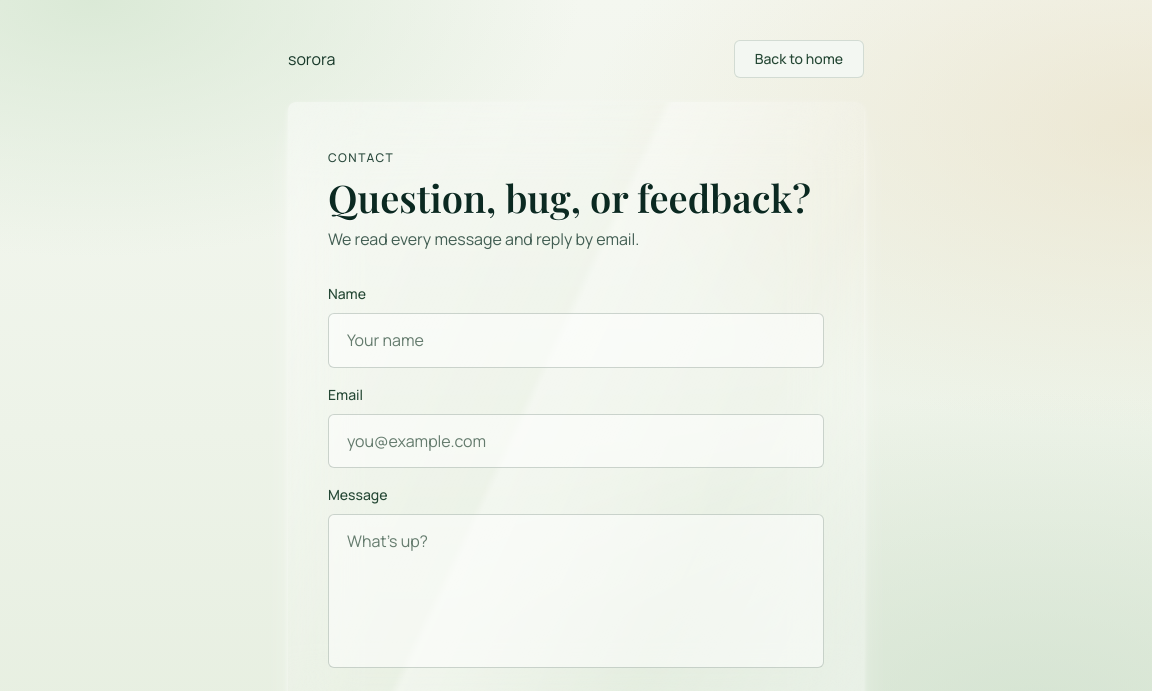
Scenario: a rejected contact request keeps the draft and permits retry without claiming success
This screenshot has width=1152, height=691.
Type "Sample Member" into the field labelled "Name".
click(576, 340); type("Sample Member")  # box [328,313,824,368]
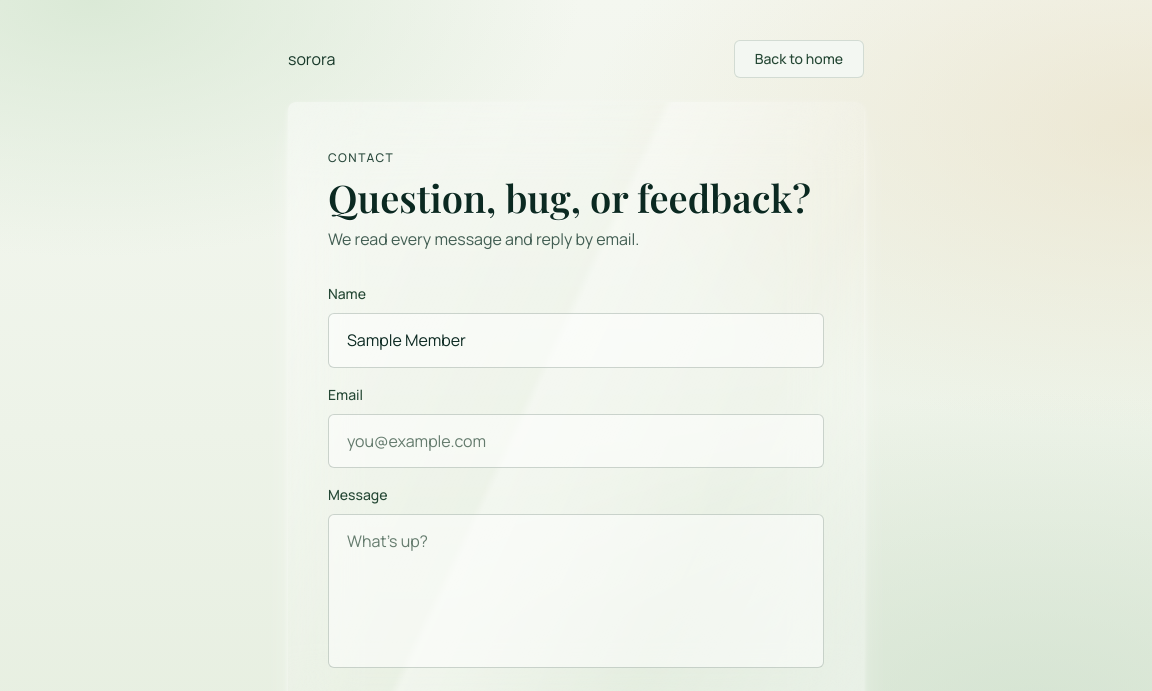
Type "sample@example.com" into the field labelled "Email".
click(576, 441); type("sample@example.com")  # box [328,414,824,468]
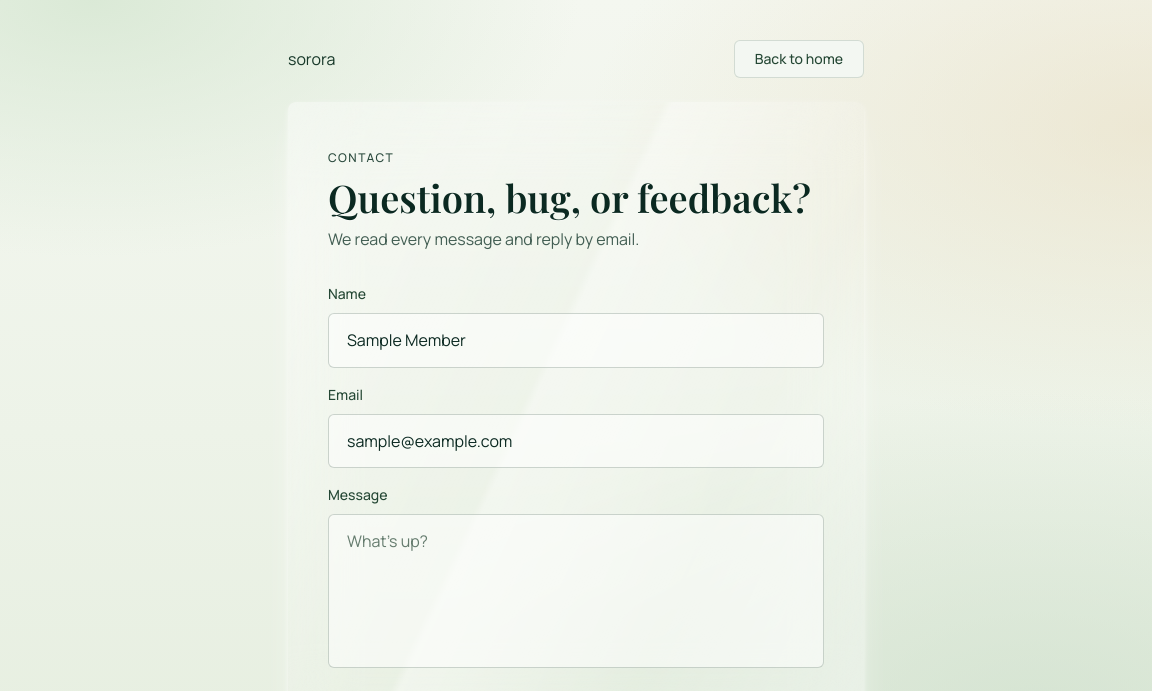
Type "Sample question" into the text box labelled "Message".
click(576, 591); type("Sample question")  # box [328,514,824,668]
(page scrolled)
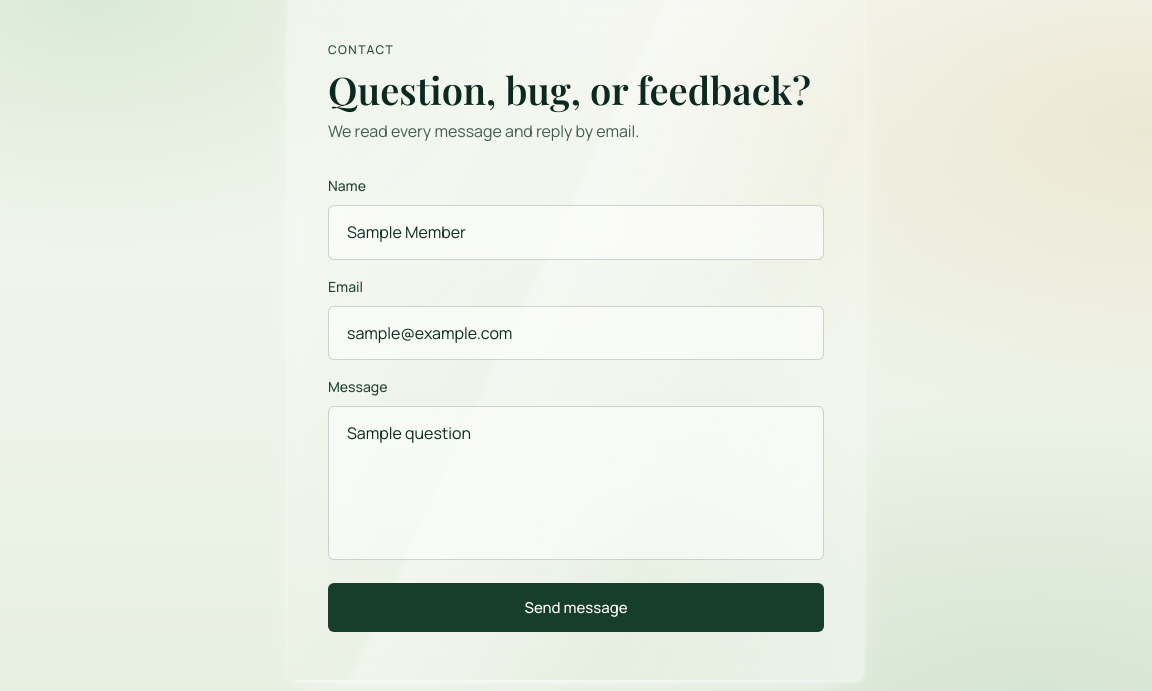
Click the button "Send message".
click(576, 607)  # box [328,583,824,632]
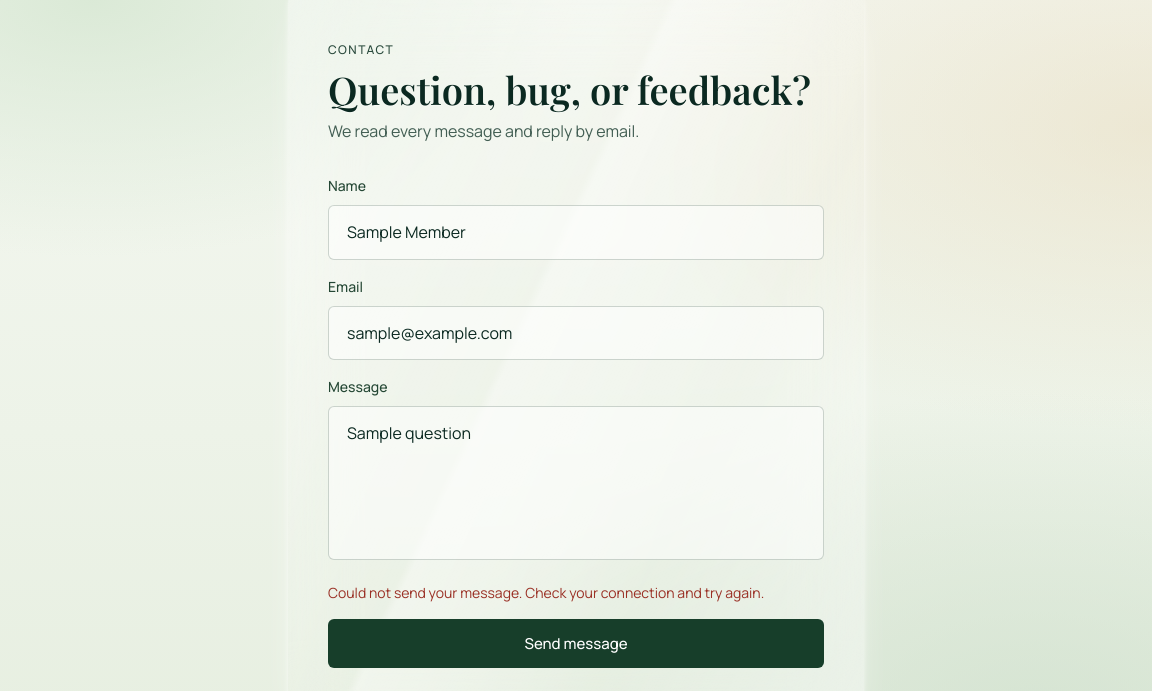
Expected: the text "Message sent." is not shown
Expected: the message shows "Could not send", [328,583,764,602]
Click the button "Send message".
click(576, 643)  # box [328,619,824,668]
(page scrolled)
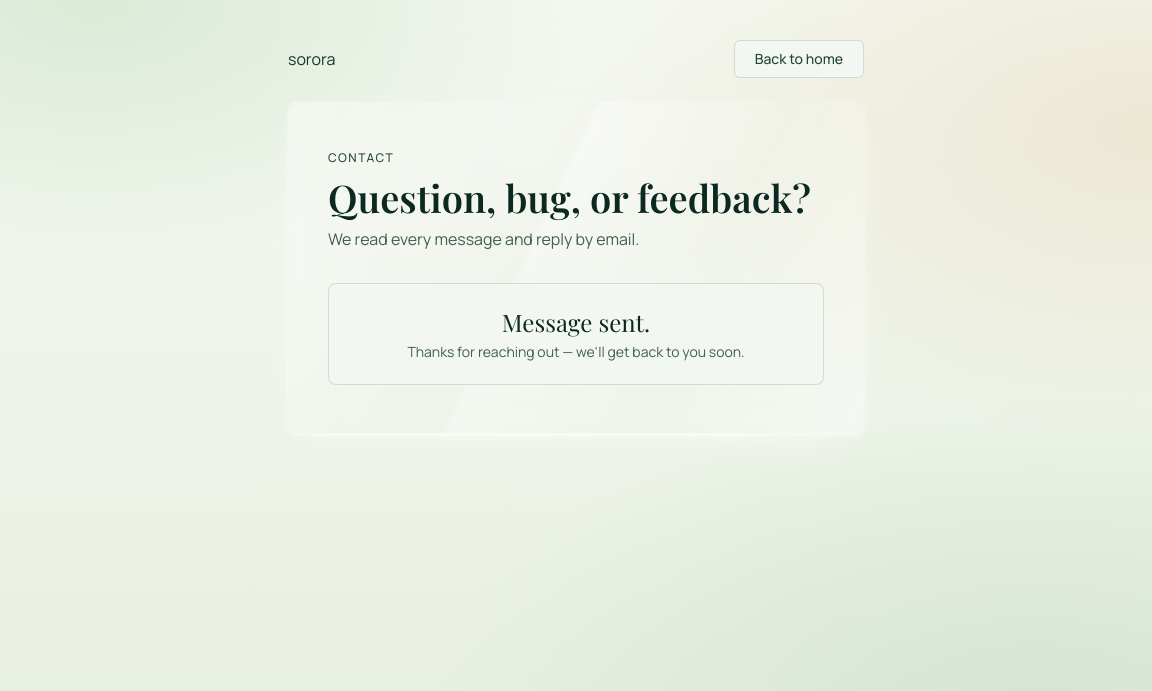
Expected: the heading "Message sent." is shown, [502,306,650,338]
